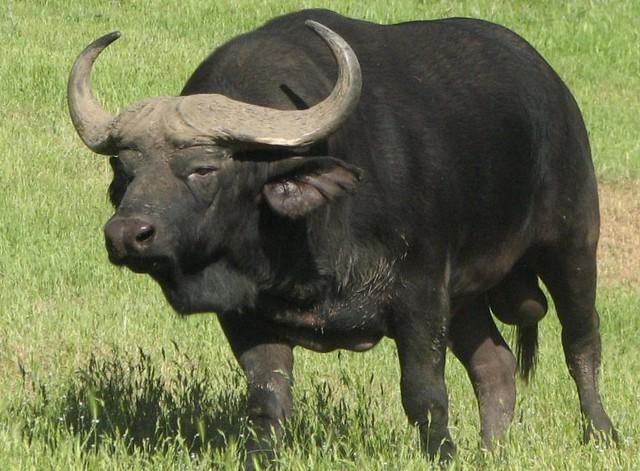Buffalo: (40, 7, 640, 471)
